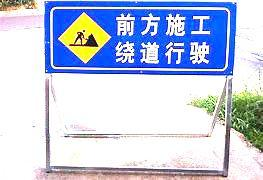sign: (47, 4, 232, 72)
